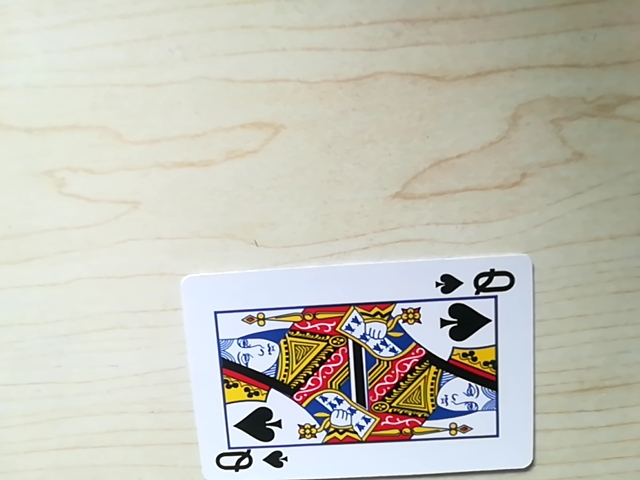ht q: (434, 263, 516, 298), (210, 444, 284, 477)
